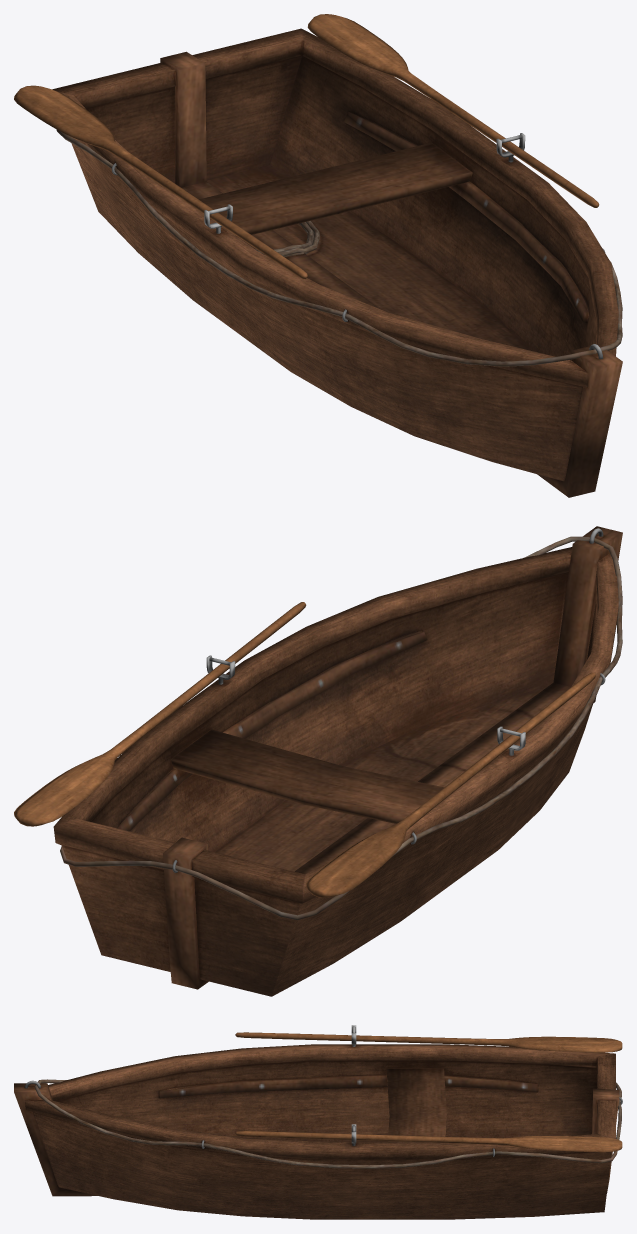
The model's file is boat-edit.glb.
3 renders of one model, top to bottom at view 1: azimuth 30°, elevation 25°; view 2: azimuth 150°, elevation 25°; view 3: azimuth 270°, elevation 25°, orthographic. The views are drawn at different scales.
Parts seen in each view (by area): view 1: BoatLow; view 2: BoatLow; view 3: BoatLow.
Boxes of the visible parts, x1,y1,x2,y2 form: BoatLow: (14,14,622,497); BoatLow: (14,526,622,996); BoatLow: (14,1025,622,1219).
Size of the model in its own units: 0.8895 by 0.4091 by 2.
Materials: 1 (1 with a texture image).
